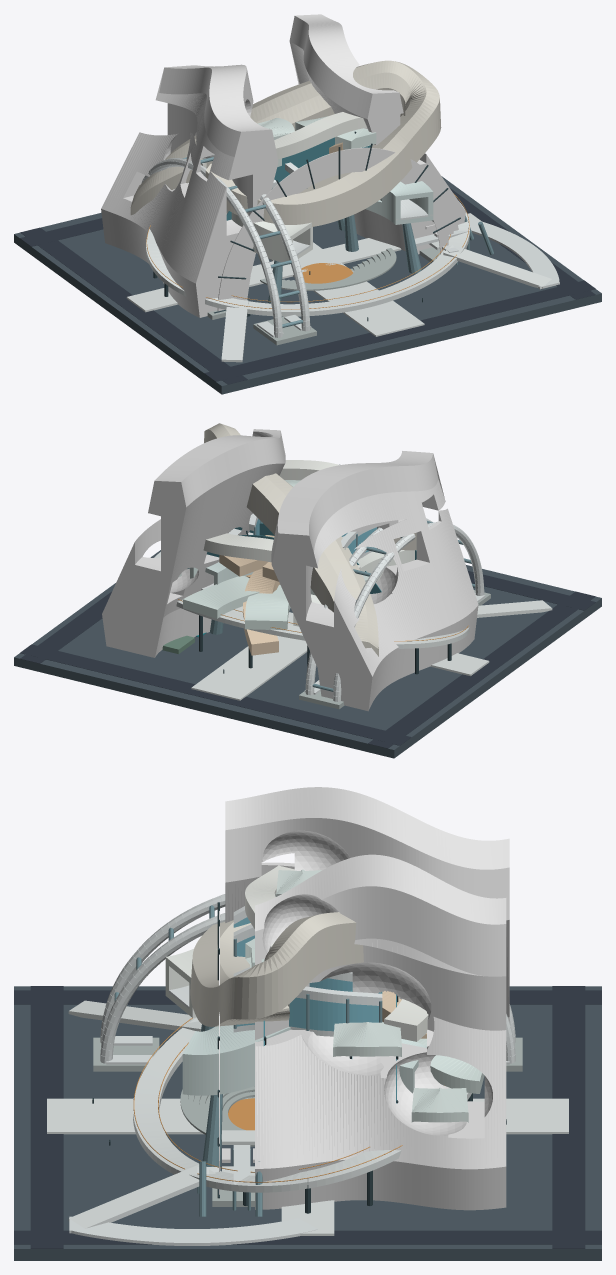
The model's file is a14_tectonic_civic_braid.glb.
3 views of the same model, one above another, from view 1: azimuth 30°, elevation 25°; view 2: azimuth 150°, elevation 25°; view 3: azimuth 270°, elevation 25° (orthographic). The views are drawn at different scales.
Visible parts, largest first — view 1: District base, A11_WEST_FAULT_ESCARPMENT_REAL_VOID, A14_INHABITED_TECTONIC_CIVIC_BRAID, A11_EAST_SKY_FOLD_REAL_VOID, SOUTH continuous glazed occupied band_A9_FLARED, Continuous elliptical public promenade, E-W road, N-S road, Public ground, continuous E-W axis, Public ground, continuous N-S axis, A11_HIGH_CREST_TRANSECT, A7_APPROACH_CURVED_DECK (+12 smaller); view 2: A11_WEST_FAULT_ESCARPMENT_REAL_VOID, District base, A11_EAST_SKY_FOLD_REAL_VOID, A14_INHABITED_TECTONIC_CIVIC_BRAID, E-W road.001, N-S road, Public ground, continuous N-S axis, A11_EAST_OCCUPIED_STRATUM_0, A11_WEST_OCCUPIED_STRATUM_0, Continuous elliptical public promenade, A11_LOW_FAULT_SKY_BOULEVARD, E-W road (+8 smaller); view 3: A11_EAST_SKY_FOLD_REAL_VOID, District base, A11_WEST_FAULT_ESCARPMENT_REAL_VOID, A14_INHABITED_TECTONIC_CIVIC_BRAID, E-W road.001, E-W road, Continuous elliptical public promenade, Public ground, continuous N-S axis, A10_EAST_INHABITED_TIDAL_SHELL, N-S road.001, A7_APPROACH_CURVED_DECK, Street to common ramp.001 (+16 smaller).
Part boxes in pixels (x1,y1,x2,y2): District base: (14, 176, 601, 394); A11_WEST_FAULT_ESCARPMENT_REAL_VOID: (101, 64, 278, 317); A14_INHABITED_TECTONIC_CIVIC_BRAID: (130, 60, 441, 226); A11_EAST_SKY_FOLD_REAL_VOID: (289, 14, 465, 254); SOUTH continuous glazed occupied band_A9_FLARED: (217, 147, 458, 311); Continuous elliptical public promenade: (146, 202, 469, 316); E-W road: (204, 280, 595, 381); N-S road: (20, 227, 247, 384); Public ground, continuous E-W axis: (126, 213, 481, 312); Public ground, continuous N-S axis: (268, 242, 424, 336); A11_HIGH_CREST_TRANSECT: (274, 112, 366, 159); A7_APPROACH_CURVED_DECK: (469, 218, 559, 289); A11_WEST_FAULT_ESCARPMENT_REAL_VOID: (271, 451, 478, 711); District base: (14, 550, 601, 758); A11_EAST_SKY_FOLD_REAL_VOID: (102, 429, 285, 657); A14_INHABITED_TECTONIC_CIVIC_BRAID: (204, 423, 416, 656); E-W road.001: (20, 644, 411, 745); N-S road: (368, 591, 595, 748); Public ground, continuous N-S axis: (191, 636, 307, 700); A11_EAST_OCCUPIED_STRATUM_0: (183, 576, 259, 618); A11_WEST_OCCUPIED_STRATUM_0: (245, 584, 290, 630); Continuous elliptical public promenade: (176, 599, 469, 648); A11_LOW_FAULT_SKY_BOULEVARD: (203, 533, 360, 570); E-W road: (468, 571, 595, 610); A11_EAST_SKY_FOLD_REAL_VOID: (255, 854, 506, 1210); District base: (14, 986, 601, 1260); A11_WEST_FAULT_ESCARPMENT_REAL_VOID: (225, 787, 509, 1021); A14_INHABITED_TECTONIC_CIVIC_BRAID: (190, 912, 363, 1026); E-W road.001: (552, 986, 585, 1248); E-W road: (30, 986, 63, 1248); Continuous elliptical public promenade: (133, 1017, 471, 1192); Public ground, continuous N-S axis: (47, 1098, 568, 1134); A10_EAST_INHABITED_TIDAL_SHELL: (182, 1022, 426, 1095); N-S road.001: (14, 1230, 601, 1244); A7_APPROACH_CURVED_DECK: (69, 1216, 317, 1245); Street to common ramp.001: (68, 1164, 215, 1228).
Size of the model in its own units: 188 by 98.06 by 178.
